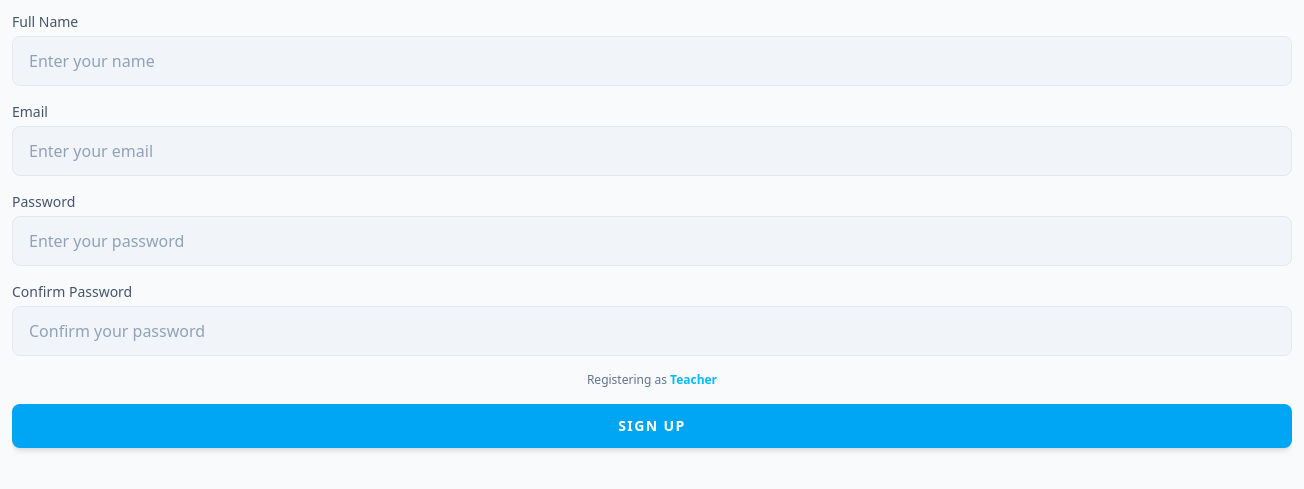
Test: Register Component › shows mismatch error when passwords differ
Type "Test" into the field with placeholder "Enter your name" at (652, 61), box [12,36,1292,86]
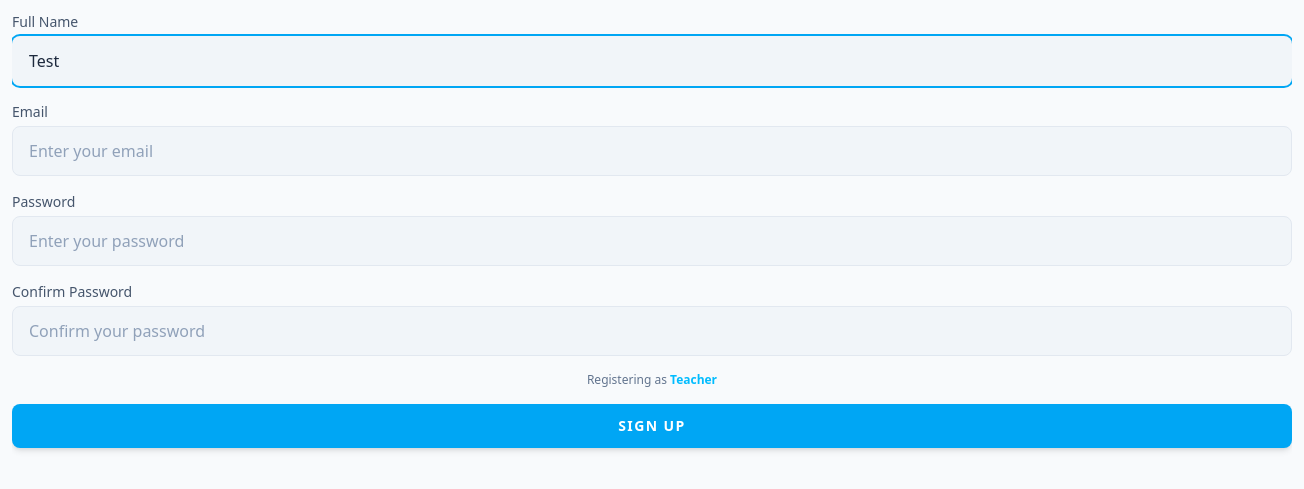
Type "test@test.com" into the field with placeholder "Enter your email" at (652, 151), box [12,126,1292,176]
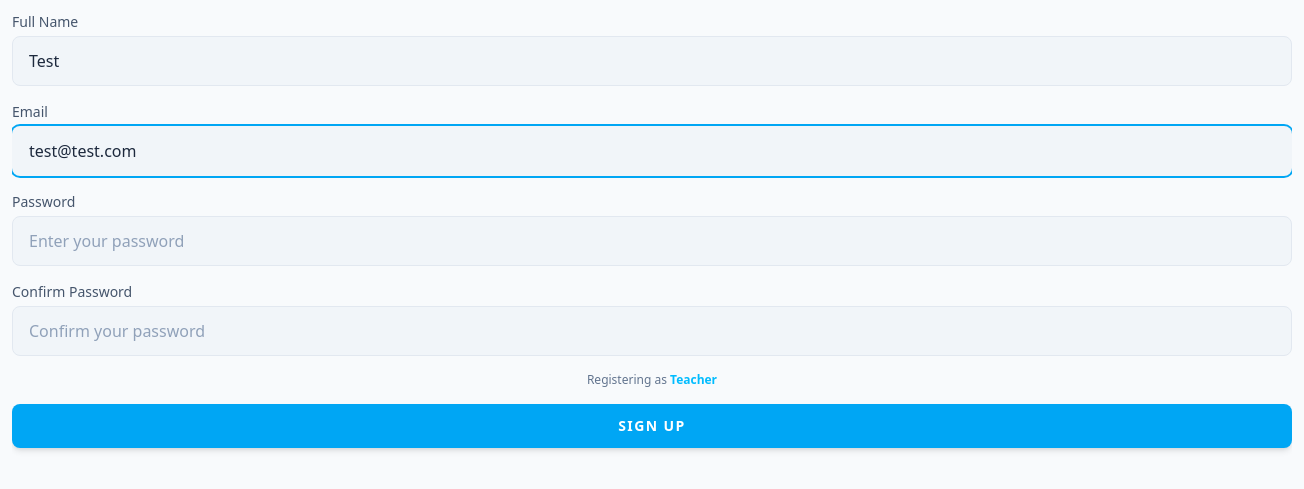
Type "Password@123" into the password field with placeholder "Enter your password" at (652, 241), box [12,216,1292,266]
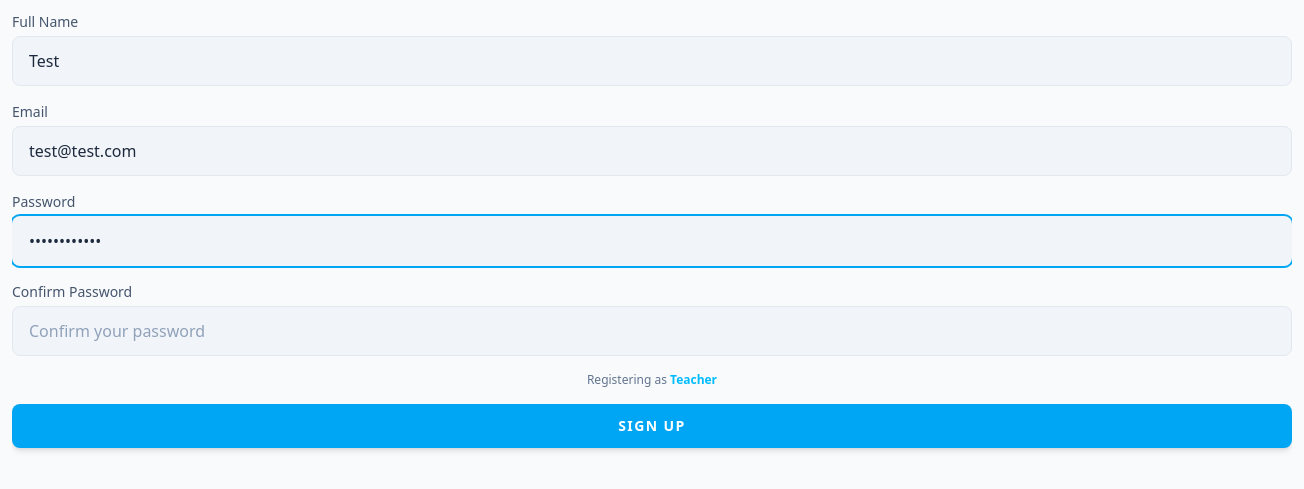
Type "Different@123" into the password field with placeholder "Confirm your password" at (652, 331), box [12,306,1292,356]
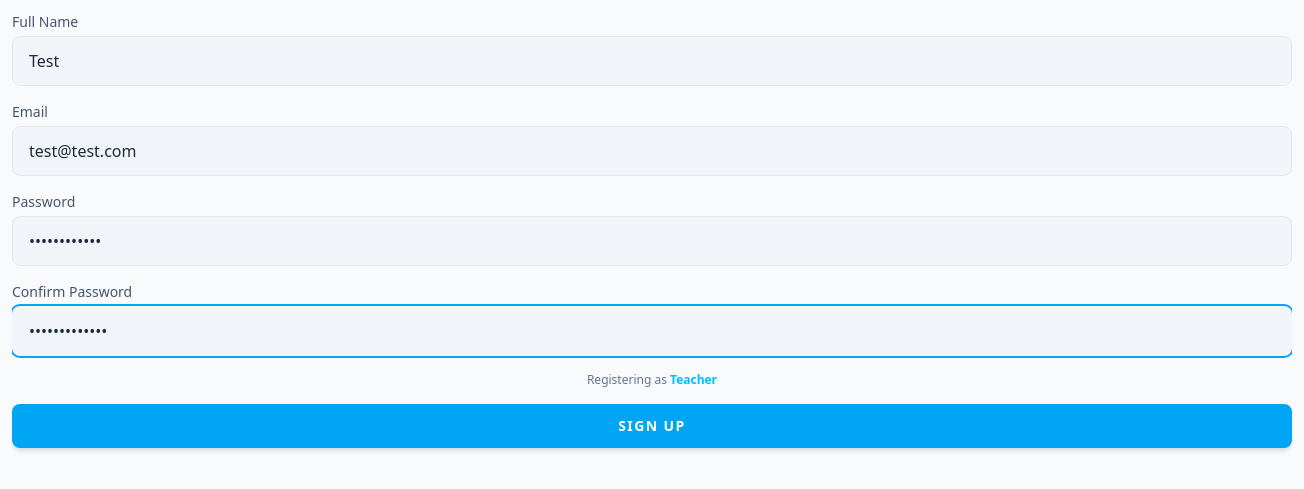
Click the button "Sign Up" at (652, 426), box [12,404,1292,448]
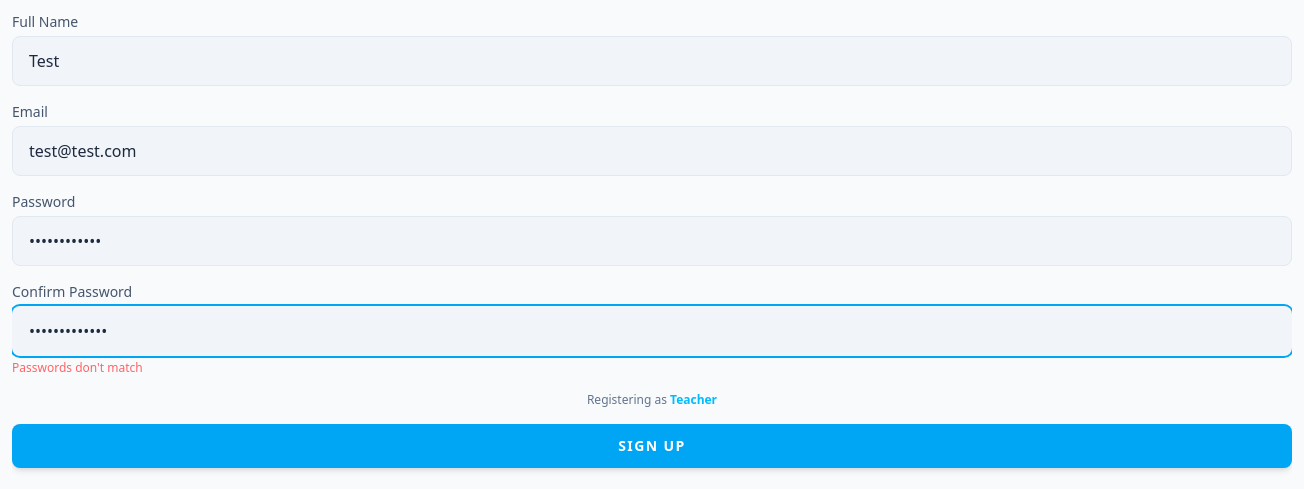
Now the text "Passwords don't match" is shown, box [12,359,143,376]
